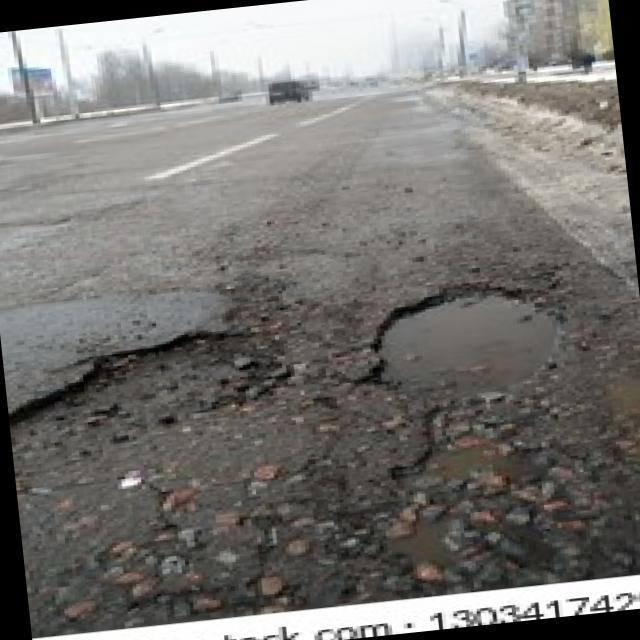Pothole: (1, 314, 306, 478), (357, 275, 575, 414)
